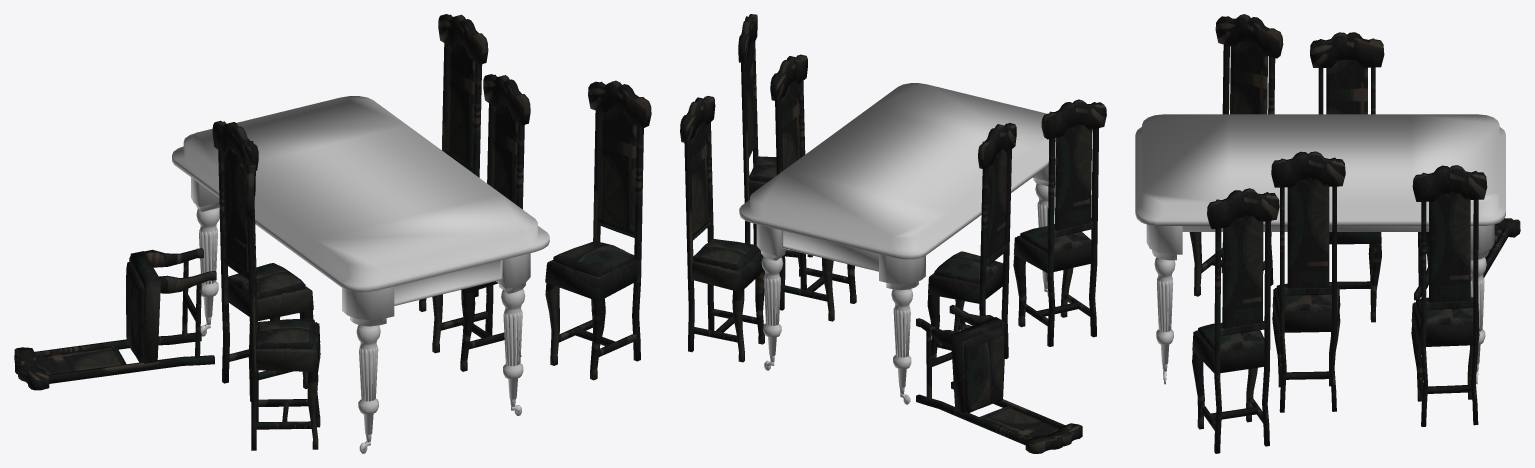
File: coraline-kitchen.gltf
3 renders of one model, left to right at view 1: azimuth 30°, elevation 25°; view 2: azimuth 150°, elevation 25°; view 3: azimuth 270°, elevation 25°, orthographic. The views are drawn at different scales.
Visible parts, largest first — view 1: Material-material, Test-material; view 2: Material-material, Test-material; view 3: Material-material, Test-material.
Boxes of the visible parts, x1,y1,x2,y2 form: Material-material: (14,14,651,450); Test-material: (172,96,549,453); Material-material: (680,14,1106,453); Test-material: (739,83,1055,404); Material-material: (1189,14,1520,453); Test-material: (1135,114,1505,384).
Bounding box in the file's own units: 43.05 × 22.31 × 29.86.
